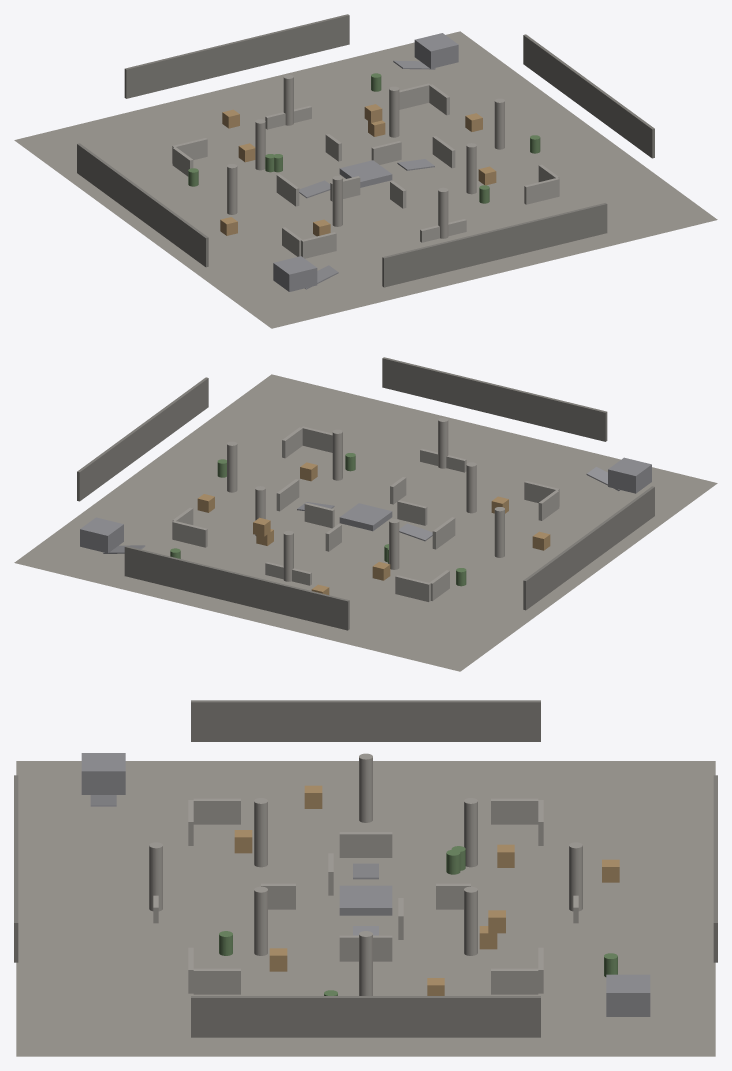
Rendered from SM_ShooterArena.fbx.
3 renders of one model, top to bottom at view 1: azimuth 30°, elevation 25°; view 2: azimuth 150°, elevation 25°; view 3: azimuth 270°, elevation 25°, orthographic. The views are drawn at different scales.
Parts seen in each view (by area): view 1: Arena_Floor, Wall_South, Wall_North, Wall_East, Wall_West, Platform_SniperNE, Platform_SW, Platform_Center, Cover_SE_1, Cover_SW_1, Cover_NE_1, Cover_Center_1 (+11 smaller); view 2: Arena_Floor, Wall_North, Wall_South, Wall_East, Wall_West, Platform_SW, Platform_SniperNE, Platform_Center, Cover_NW_1, Cover_NE_1, Cover_SE_1, Cover_Center_1 (+11 smaller); view 3: Arena_Floor, Wall_East, Wall_West, Platform_SniperNE, Platform_SW, Platform_Center, Cover_Mid_S, Cover_NE_2, Cover_NW_2, Cover_SE_2, Cover_SW_2, Cover_Mid_N (+12 smaller).
Boxes of the visible parts, x1=… form: Arena_Floor: x1=14, y1=31, x2=717, y2=328; Wall_South: x1=382, y1=203, x2=607, y2=287; Wall_North: x1=124, y1=14, x2=349, y2=98; Wall_East: x1=523, y1=34, x2=654, y2=158; Wall_West: x1=77, y1=143, x2=208, y2=267; Platform_SniperNE: x1=414, y1=33, x2=458, y2=68; Platform_SW: x1=273, y1=256, x2=317, y2=291; Platform_Center: x1=339, y1=160, x2=392, y2=187; Cover_SE_1: x1=524, y1=177, x2=559, y2=204; Cover_SW_1: x1=301, y1=232, x2=336, y2=258; Cover_NE_1: x1=399, y1=83, x2=430, y2=109; Cover_Center_1: x1=371, y1=141, x2=401, y2=164; Arena_Floor: x1=14, y1=374, x2=717, y2=671; Wall_North: x1=124, y1=546, x2=349, y2=630; Wall_South: x1=382, y1=357, x2=607, y2=441; Wall_East: x1=77, y1=377, x2=208, y2=501; Wall_West: x1=523, y1=486, x2=654, y2=610; Platform_SW: x1=608, y1=457, x2=651, y2=493; Platform_SniperNE: x1=80, y1=517, x2=123, y2=553; Platform_Center: x1=339, y1=503, x2=392, y2=531; Cover_NW_1: x1=395, y1=575, x2=430, y2=601; Cover_NE_1: x1=172, y1=520, x2=207, y2=547; Cover_SE_1: x1=301, y1=426, x2=332, y2=452; Cover_Center_1: x1=304, y1=502, x2=334, y2=528; Arena_Floor: x1=16, y1=761, x2=715, y2=1056; Wall_East: x1=191, y1=996, x2=540, y2=1037; Wall_West: x1=191, y1=700, x2=540, y2=741; Platform_SniperNE: x1=606, y1=974, x2=650, y2=1016; Platform_SW: x1=81, y1=753, x2=125, y2=794; Platform_Center: x1=339, y1=885, x2=392, y2=915; Cover_Mid_S: x1=339, y1=832, x2=392, y2=857; Cover_NE_2: x1=491, y1=968, x2=538, y2=994; Cover_NW_2: x1=491, y1=798, x2=538, y2=824; Cover_SE_2: x1=193, y1=968, x2=240, y2=994; Cover_SW_2: x1=193, y1=798, x2=240, y2=824; Cover_Mid_N: x1=339, y1=935, x2=392, y2=961.
Bounding box in the file's own units: 40.25 × 40.25 × 4.
